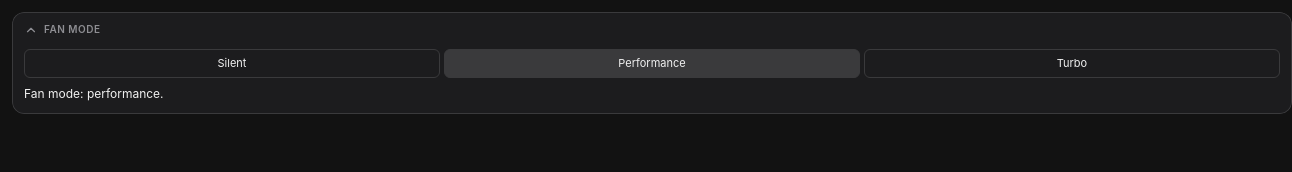
Test: reports a refused write
Click the button "Silent" at {"x": 232, "y": 63}, box [24,49,440,78]
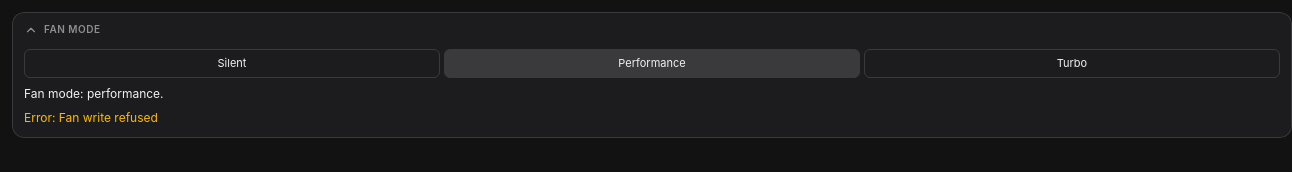
Check: the message "Error: Fan write refused" is shown, box [24,110,158,124]
